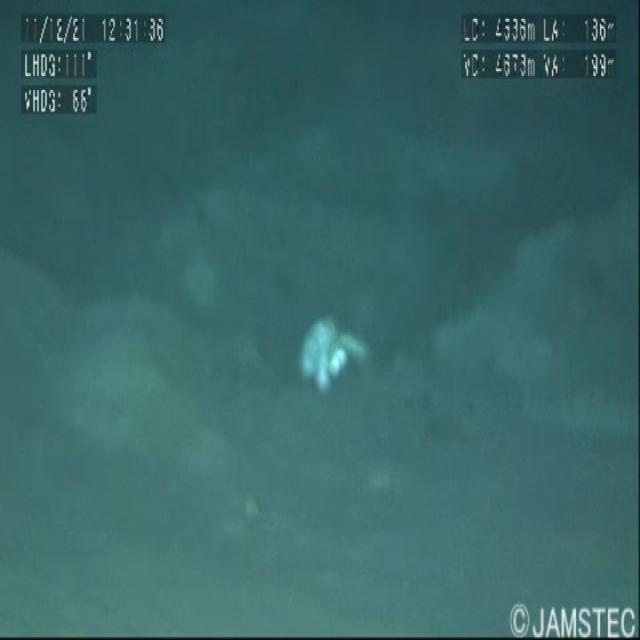Litter: (292, 307, 372, 413)
